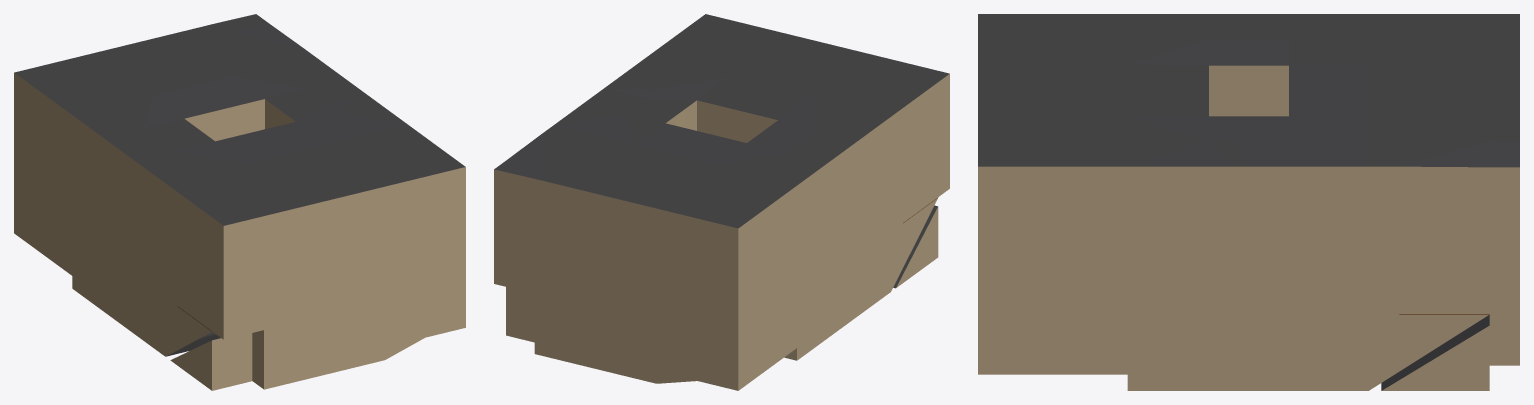
The model's file is level_for_machine_jam.fbx.
3 renders of one model, left to right at view 1: azimuth 30°, elevation 25°; view 2: azimuth 150°, elevation 25°; view 3: azimuth 270°, elevation 25°, orthographic. The views are drawn at different scales.
Visible parts, largest first — view 1: Level; view 2: Level; view 3: Level.
Boxes of the visible parts, left/top/right/bottom form: Level: left=14, top=14, right=465, bottom=390; Level: left=494, top=14, right=949, bottom=390; Level: left=978, top=14, right=1519, bottom=390.
Size of the model in its own units: 6001 by 4112 by 9001.
